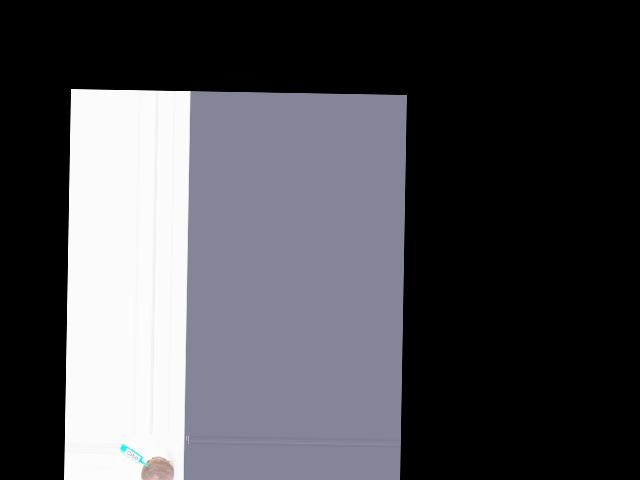beet: (141, 456, 174, 480)
